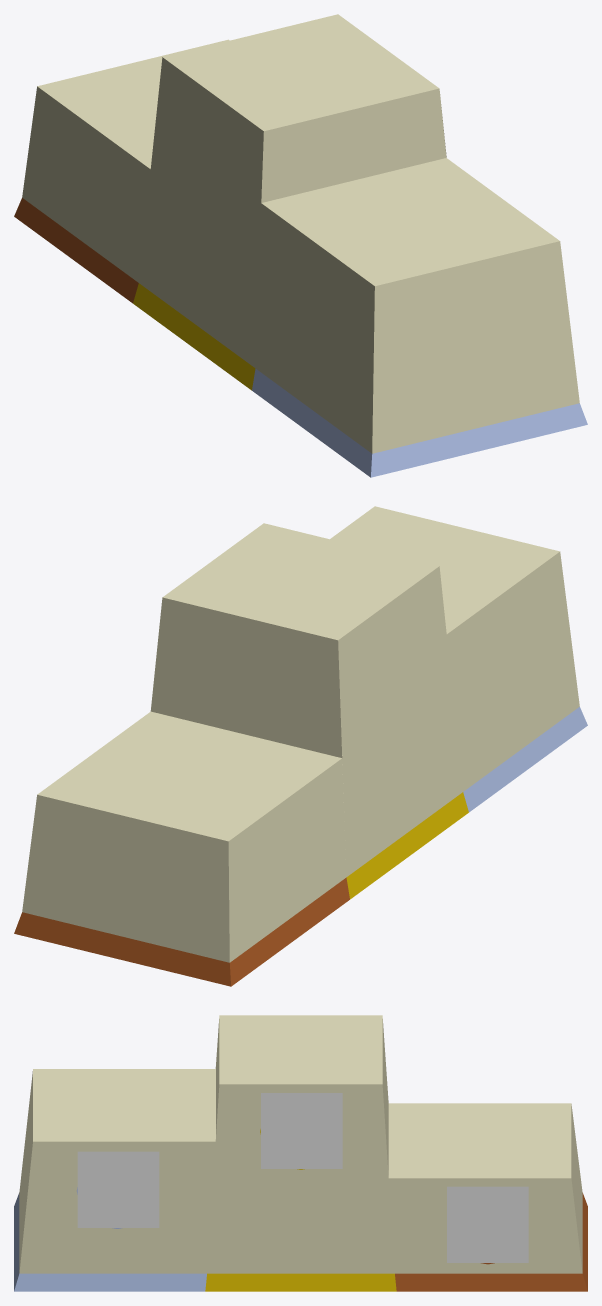
Rendered from Podium.fbx.
3 renders of one model, top to bottom at view 1: azimuth 30°, elevation 25°; view 2: azimuth 150°, elevation 25°; view 3: azimuth 270°, elevation 25°, orthographic. The views are drawn at different scales.
Parts seen in each view (by area): view 1: Obj_Podium; view 2: Obj_Podium; view 3: Obj_Podium.
Boxes of the visible parts, x1,y1,x2,y2 form: Obj_Podium: (14,14,587,477); Obj_Podium: (14,506,587,986); Obj_Podium: (14,1015,587,1291).
Size of the model in its own units: 1407 by 494 by 539.
